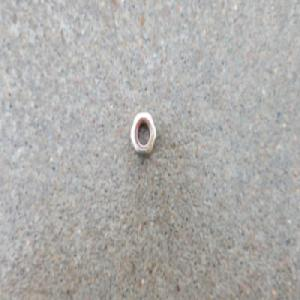Nut: (127, 108, 157, 160)
